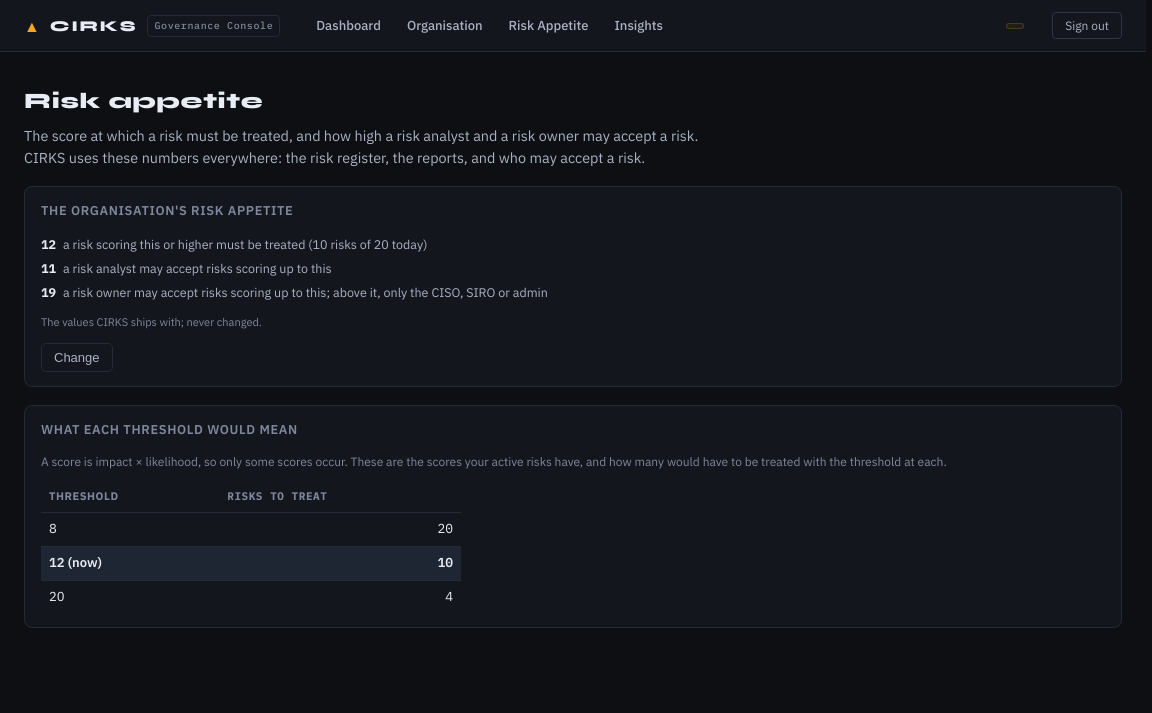
Risk appetite › will not save numbers out of order
Click the button "Change".
click(77, 358)  # box x1=41 y1=344 x2=112 y2=372
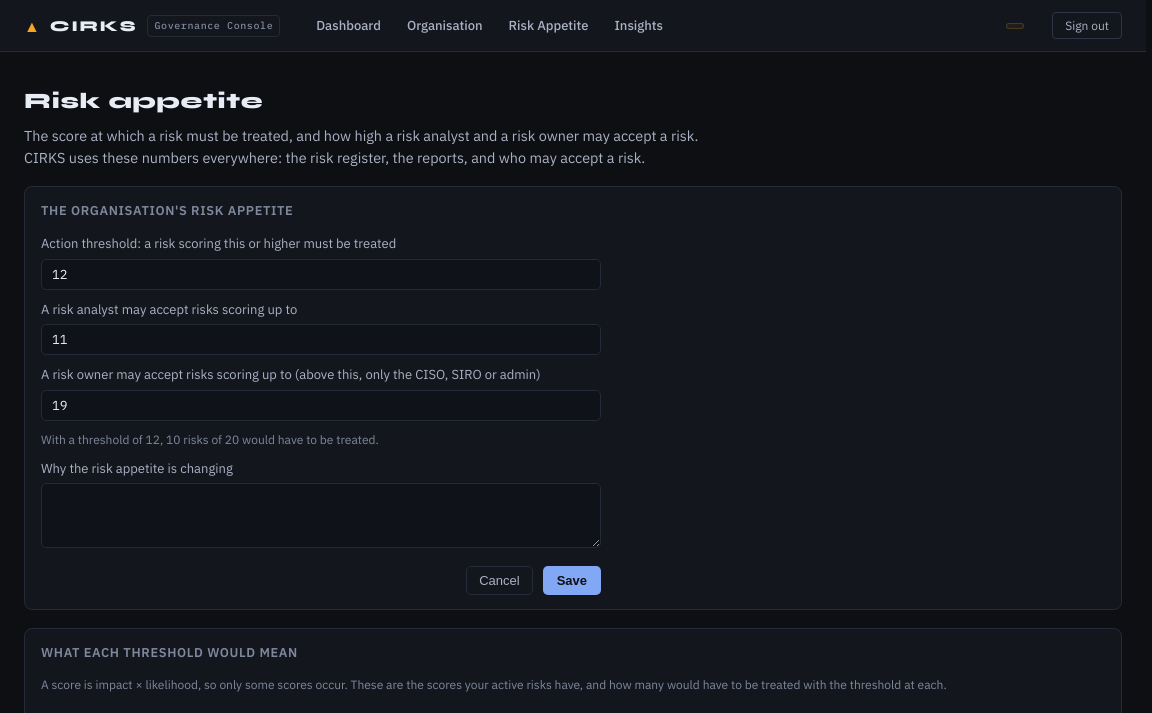
Replace the text in the number field labelled "A risk analyst may accept" with "12" at [321, 340], box x1=41 y1=324 x2=601 y2=356
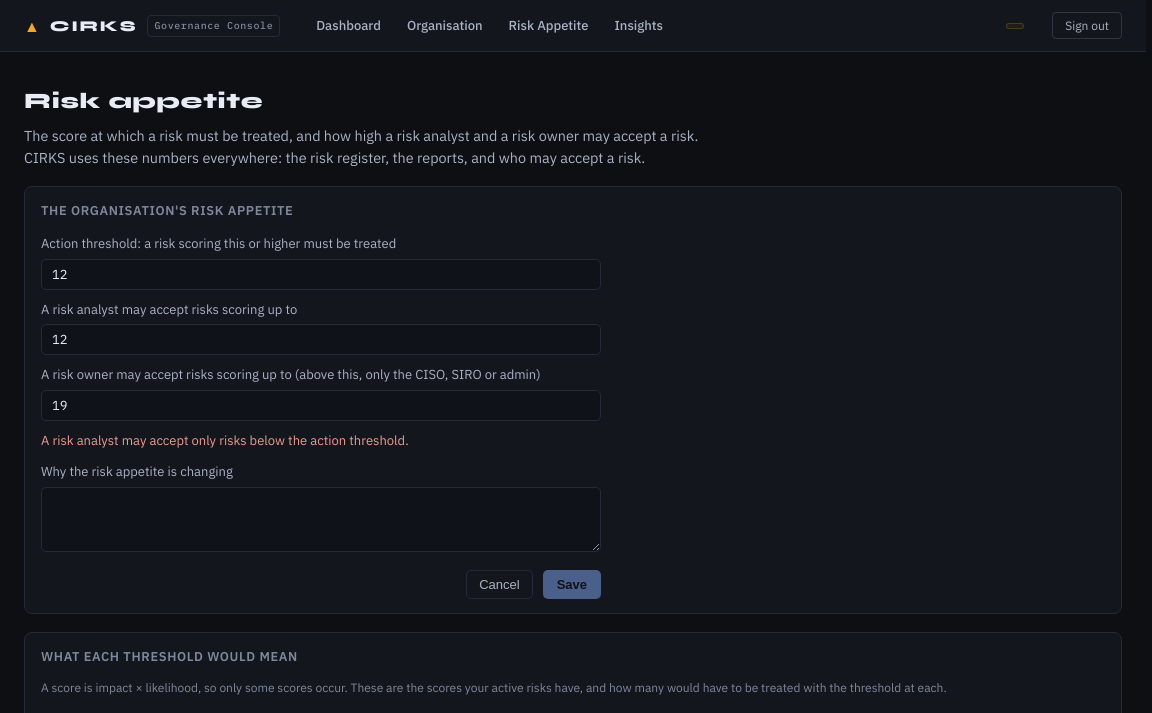
Result: the text "A risk analyst may accept only risks below the action threshold." is shown at x1=41 y1=432 x2=409 y2=449
Result: the button "Save" is disabled at x1=543 y1=570 x2=601 y2=599
